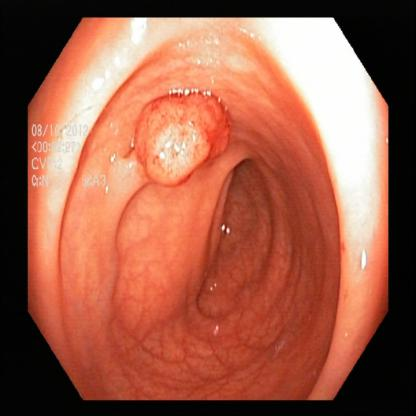Labels: (27, 115, 117, 193)
Polyps: (138, 92, 232, 185)
